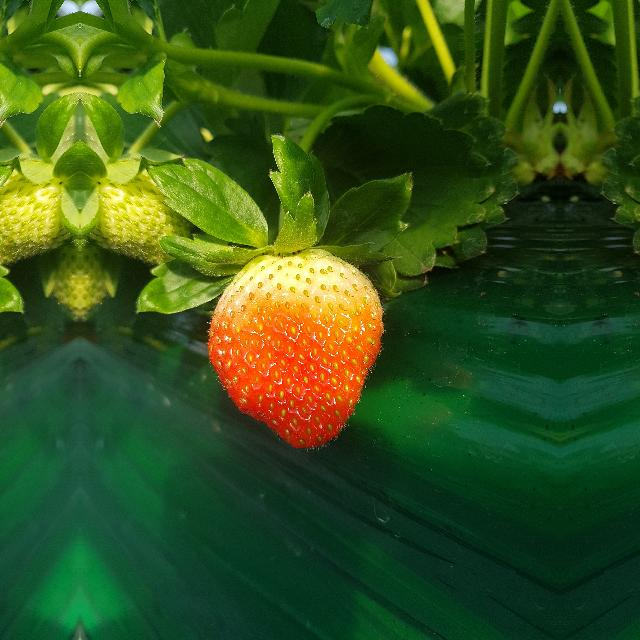Health_75: (206, 248, 384, 452)
